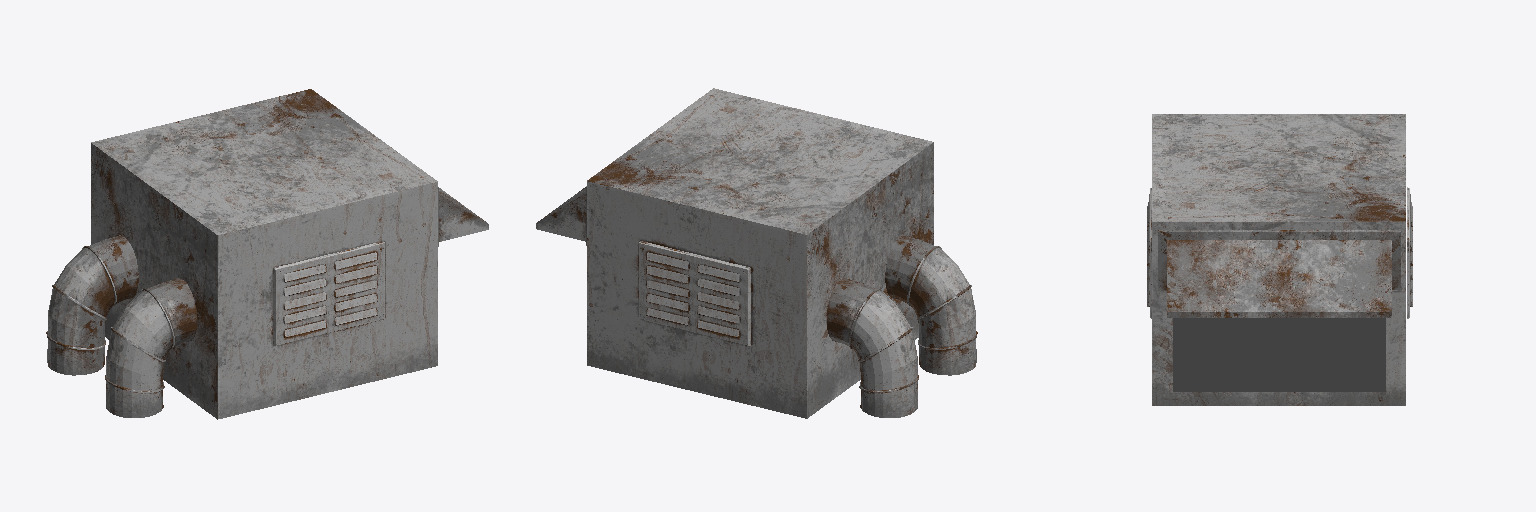
3 renders of one model, left to right at view 1: azimuth 30°, elevation 25°; view 2: azimuth 150°, elevation 25°; view 3: azimuth 270°, elevation 25°, orthographic.
Parts seen in each view (by area): view 1: Dispenser_Dispenser_Mat_0; view 2: Dispenser_Dispenser_Mat_0; view 3: Dispenser_Dispenser_Mat_0.
Boxes of the visible parts, x1,y1,x2,y2 form: Dispenser_Dispenser_Mat_0: [46, 89, 488, 419]; Dispenser_Dispenser_Mat_0: [536, 88, 977, 418]; Dispenser_Dispenser_Mat_0: [1147, 114, 1412, 405].
Bounding box in the file's own units: 22.71 × 11.34 × 14.8.
1 materials, 1 textured.